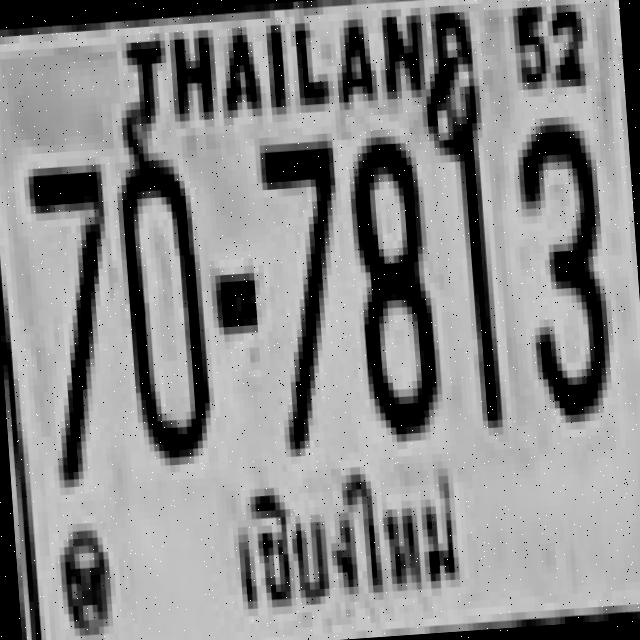0: (116, 150, 216, 466)
3: (510, 114, 616, 426)
7: (24, 157, 120, 481), (254, 134, 348, 442)
8: (346, 126, 443, 440)
ChiangMai: (213, 450, 472, 619)
